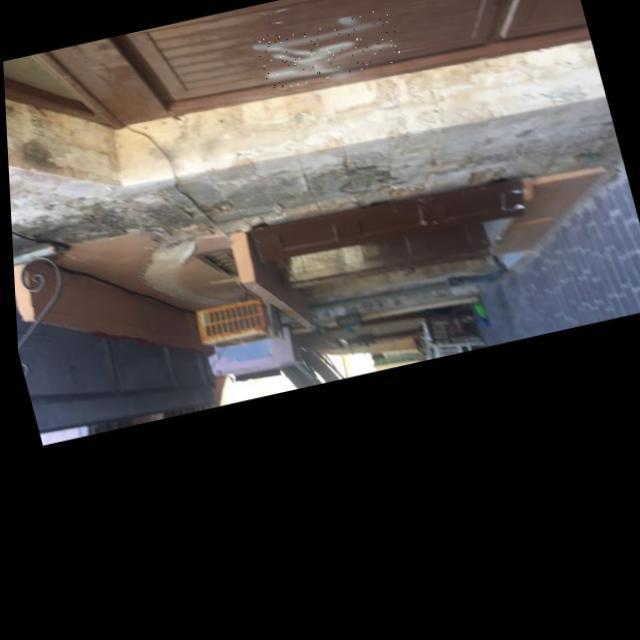-: (253, 8, 403, 92)
